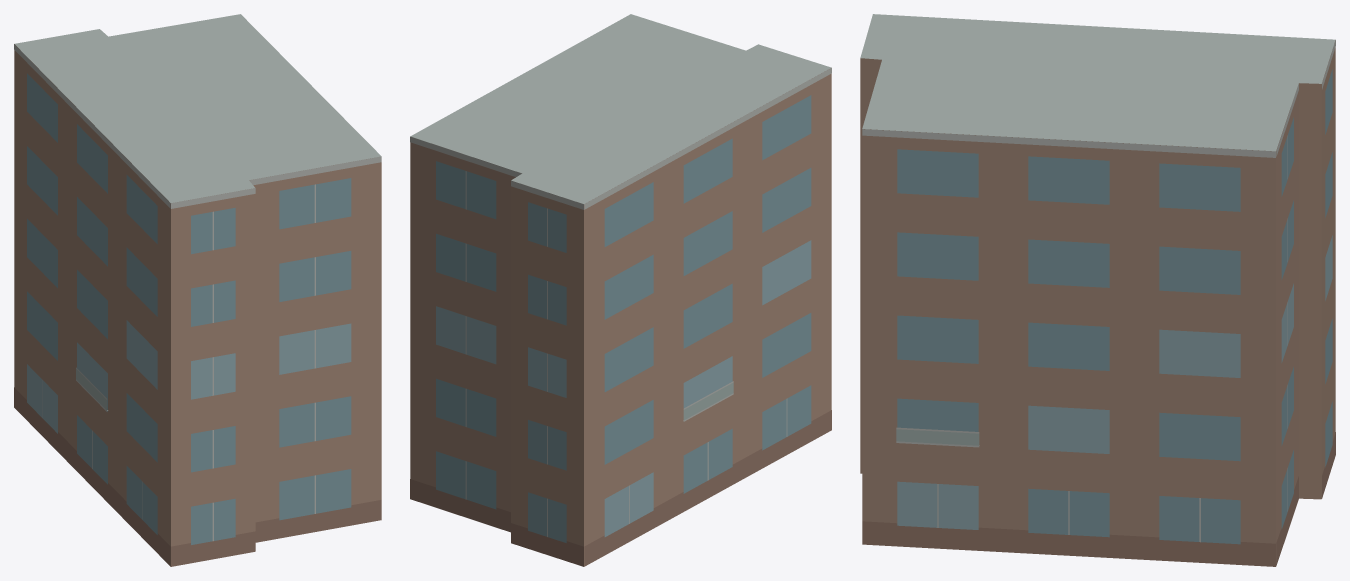
Rendered from survey-upis-32633900.glb.
3 renders of one model, left to right at view 1: azimuth 30°, elevation 25°; view 2: azimuth 150°, elevation 25°; view 3: azimuth 270°, elevation 25°, orthographic. The views are drawn at different scales.
Parts seen in each view (by area): view 1: survey-upis-32633900.tmp; view 2: survey-upis-32633900.tmp; view 3: survey-upis-32633900.tmp.
Boxes of the visible parts, x1=… form: survey-upis-32633900.tmp: x1=14, y1=14, x2=381, y2=566; survey-upis-32633900.tmp: x1=410, y1=14, x2=831, y2=566; survey-upis-32633900.tmp: x1=860, y1=14, x2=1335, y2=566.
Size of the model in its own units: 10.86 by 15.3 by 15.88.
